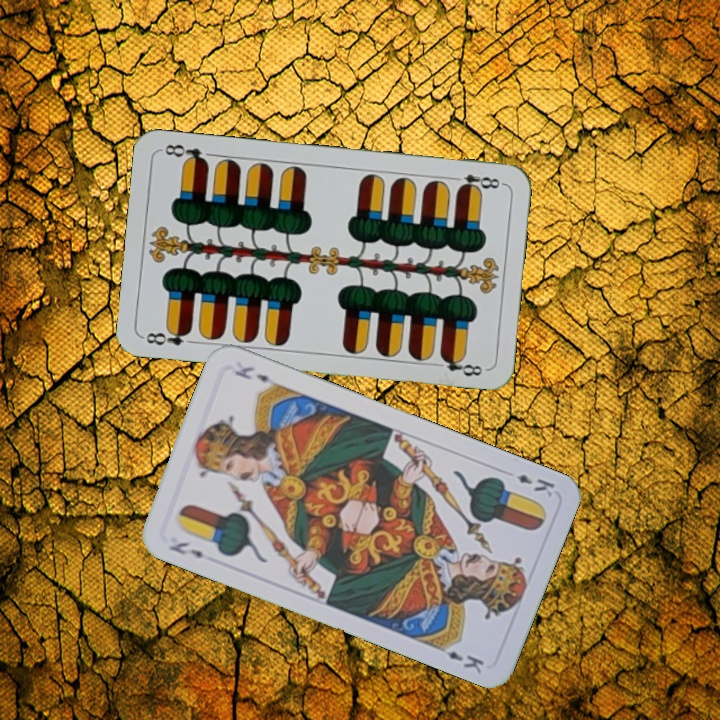E8: (447, 170, 506, 194), (140, 324, 194, 348)
EK: (512, 470, 557, 500), (165, 537, 206, 561)
